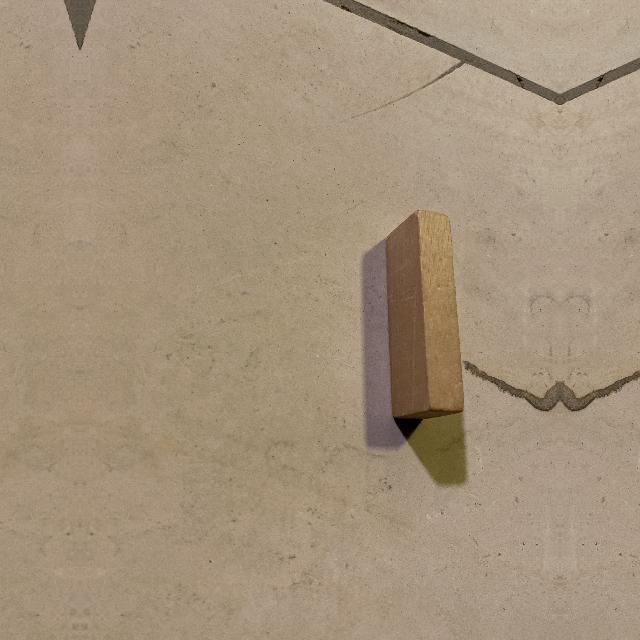jenga: (386, 209, 468, 421)
